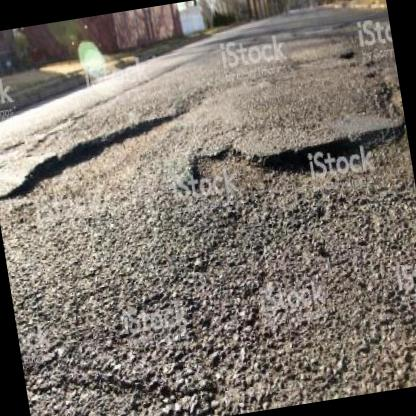pothole: (0, 103, 197, 220), (180, 114, 414, 212)
